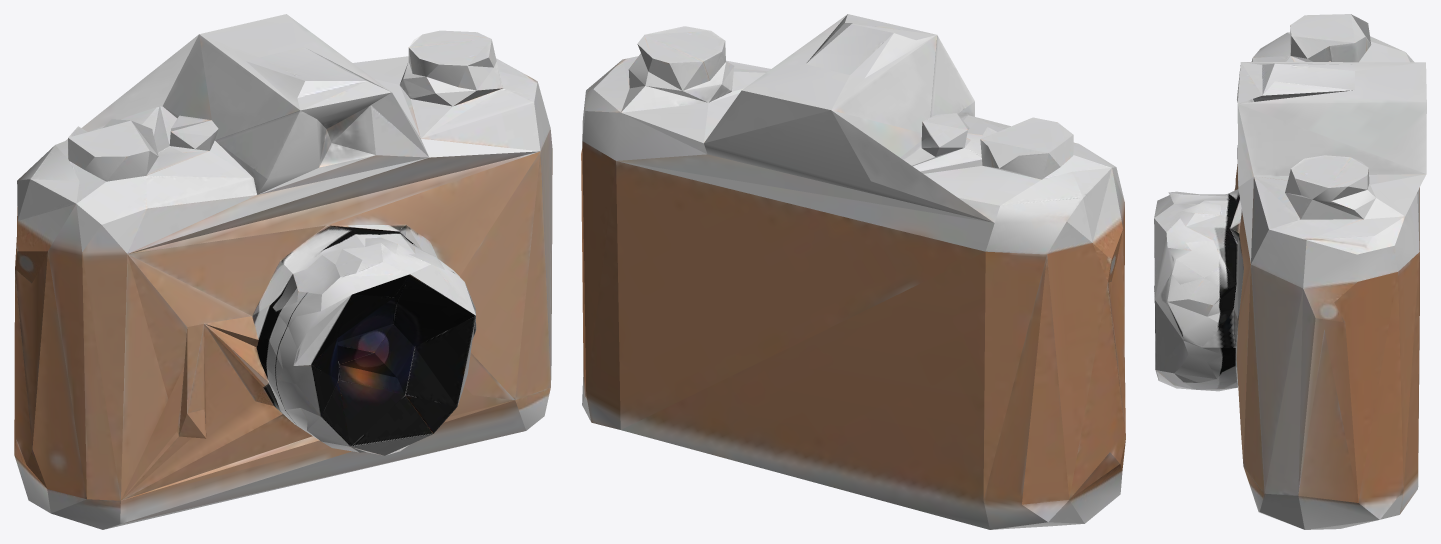
Rendered from tourist-camera.glb.
The picture shows the model from 3 angles, left to right: view 1: azimuth 30°, elevation 25°; view 2: azimuth 150°, elevation 25°; view 3: azimuth 270°, elevation 25°; orthographic projection. The views are drawn at different scales.
Bounding box in the file's own units: 0.13 × 0.0977 × 0.0655.
Materials: 1 (1 with a texture image).
